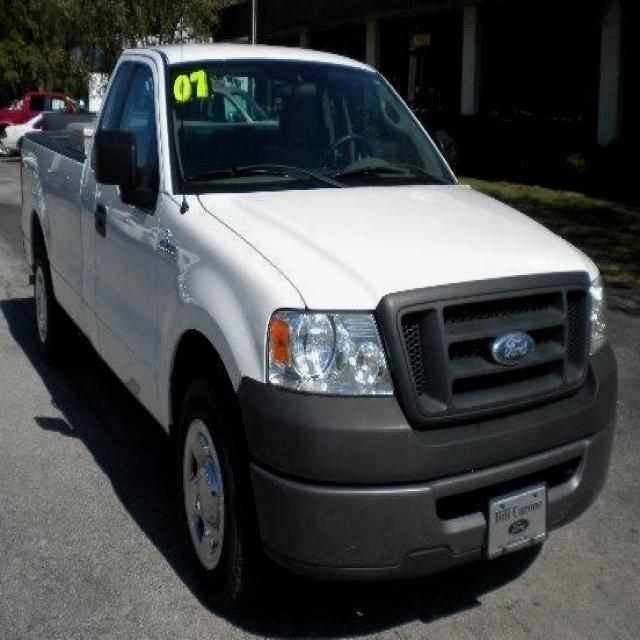CMT: (13, 45, 612, 620)
